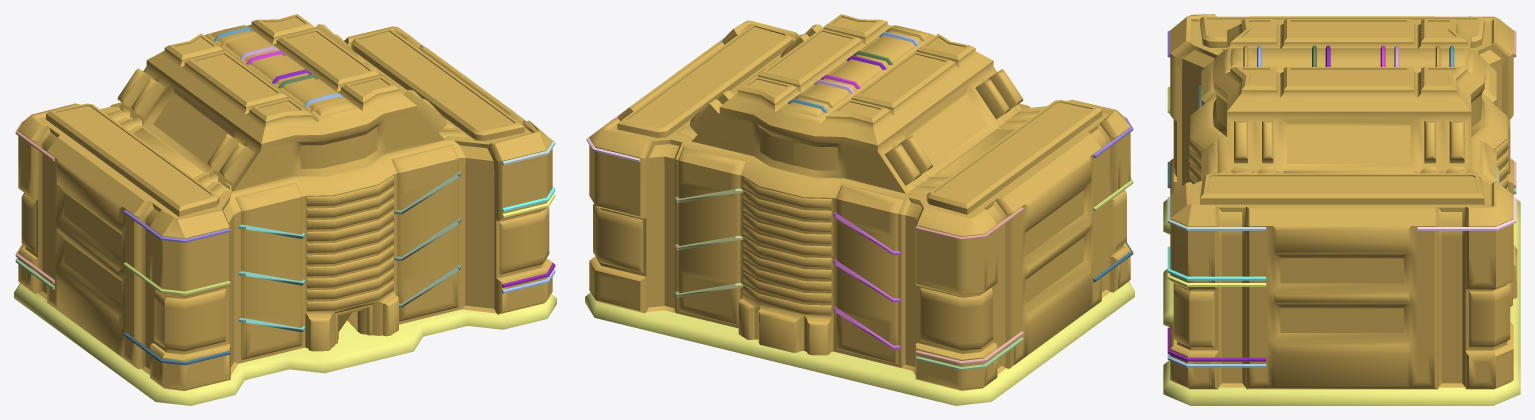
3 renders of one model, left to right at view 1: azimuth 30°, elevation 25°; view 2: azimuth 150°, elevation 25°; view 3: azimuth 270°, elevation 25°, orthographic. The views are drawn at different scales.
Parts seen in each view (by area): view 1: split_parent_1, ConcertHall_Foundation_Placeable_0, ConcertHall_Parts_Placeable_0.002, ConcertHall_Parts_Placeable_0.050, split_parent_32, split_parent_24, split_parent_27; view 2: split_parent_1, ConcertHall_Foundation_Placeable_0, ConcertHall_Parts_Placeable_0.066, ConcertHall_Parts_Placeable_0.018, split_parent_28, split_parent_30, split_parent_31; view 3: split_parent_1, ConcertHall_Foundation_Placeable_0, split_parent_16, split_parent_17, split_parent_21, split_parent_22, split_parent_19, split_parent_14.
Boxes of the visible parts, x1,y1,x2,y2 form: split_parent_1: (18, 14, 552, 390); ConcertHall_Foundation_Placeable_0: (14, 283, 556, 405); ConcertHall_Parts_Placeable_0.002: (394, 171, 461, 307); ConcertHall_Parts_Placeable_0.050: (238, 224, 305, 332); split_parent_32: (123, 210, 230, 242); split_parent_24: (123, 262, 230, 295); split_parent_27: (123, 332, 230, 365); split_parent_1: (589, 14, 1130, 390); ConcertHall_Foundation_Placeable_0: (585, 281, 1134, 405); ConcertHall_Parts_Placeable_0.066: (833, 212, 901, 349); ConcertHall_Parts_Placeable_0.018: (675, 188, 743, 297); split_parent_28: (915, 331, 1023, 364); split_parent_30: (915, 337, 1023, 370); split_parent_31: (915, 207, 1023, 240); split_parent_1: (1170, 14, 1517, 389); ConcertHall_Foundation_Placeable_0: (1163, 199, 1520, 405); split_parent_16: (1167, 246, 1266, 280); split_parent_17: (1167, 327, 1266, 361); split_parent_21: (1417, 196, 1516, 230); split_parent_22: (1167, 196, 1266, 230); split_parent_19: (1167, 353, 1266, 367); split_parent_14: (1167, 273, 1266, 286).
Size of the model in its own units: 1 by 0.5556 by 0.7222.
